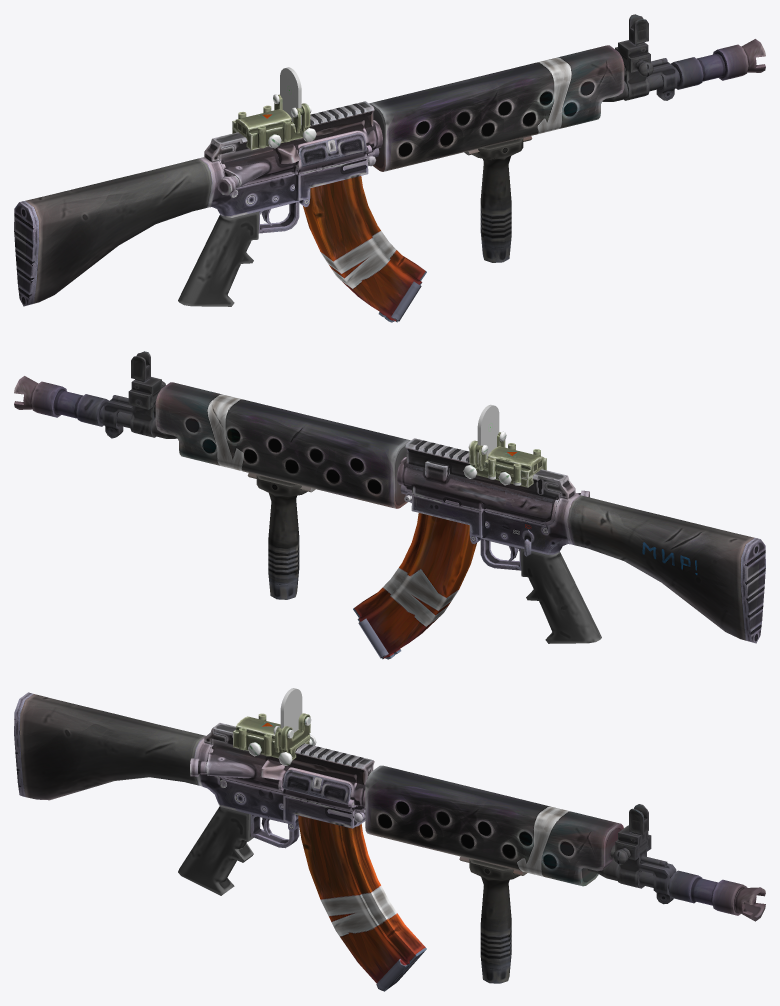
3 views of the same model, one above another, from view 1: azimuth 30°, elevation 25°; view 2: azimuth 150°, elevation 25°; view 3: azimuth 330°, elevation 25° (orthographic).
Parts seen in each view (by area): view 1: Parts3_low; view 2: Parts3_low; view 3: Parts3_low.
Part boxes in pixels (x1,y1,x2,y2): Parts3_low: (14,14,765,322); Parts3_low: (14,351,765,659); Parts3_low: (14,688,765,991).
Bounding box in the file's own units: 260 × 92.02 × 20.79.
Materials: 1 (1 with a texture image).
